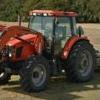Tractor: (7, 6, 100, 89)
